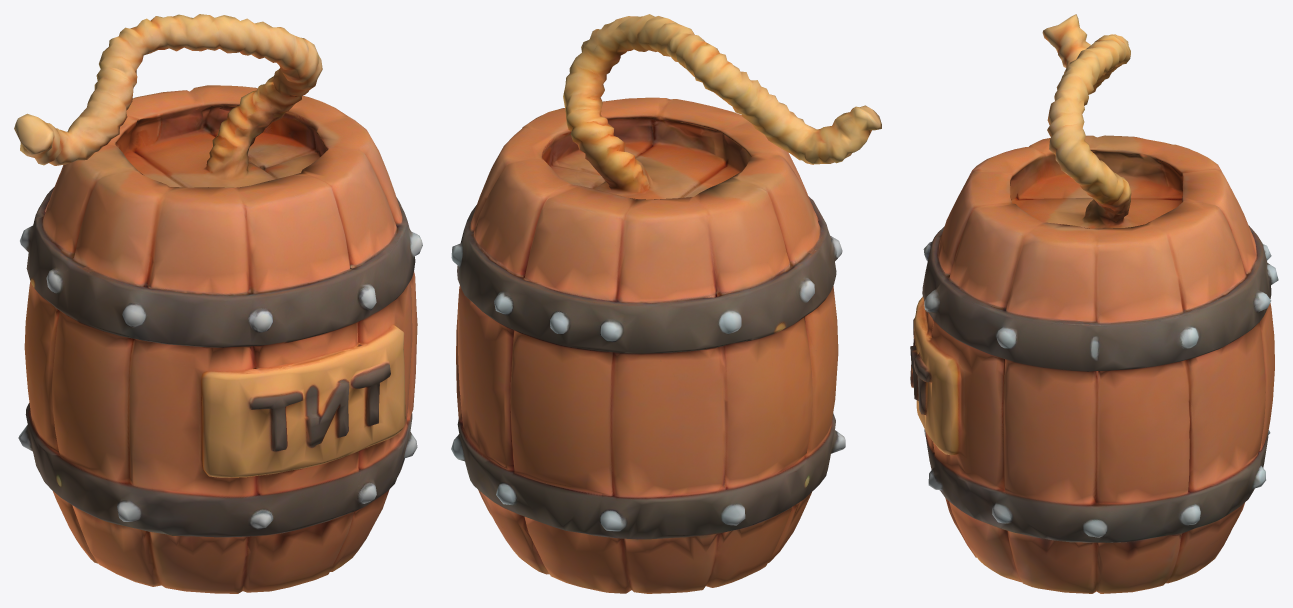
Rendered from Meshy_AI_Rope_Tied_Barrel_0419234218_texture.glb.
3 views of the same model, side by side, from view 1: azimuth 30°, elevation 25°; view 2: azimuth 150°, elevation 25°; view 3: azimuth 270°, elevation 25° (orthographic). The views are drawn at different scales.
Bounding box in the file's own units: 1.53 × 2 × 1.38.
Materials: 1 (1 with a texture image).
